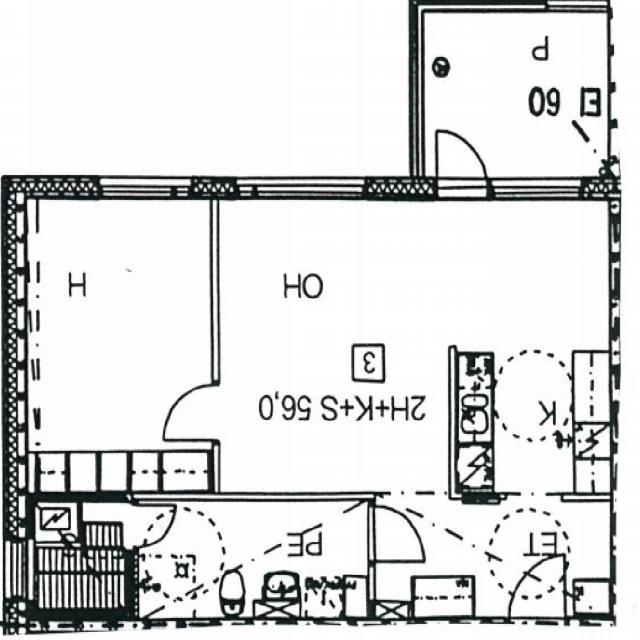door: (510, 555, 565, 628), (437, 120, 486, 200), (366, 506, 424, 562), (162, 384, 220, 440), (126, 505, 174, 546)
